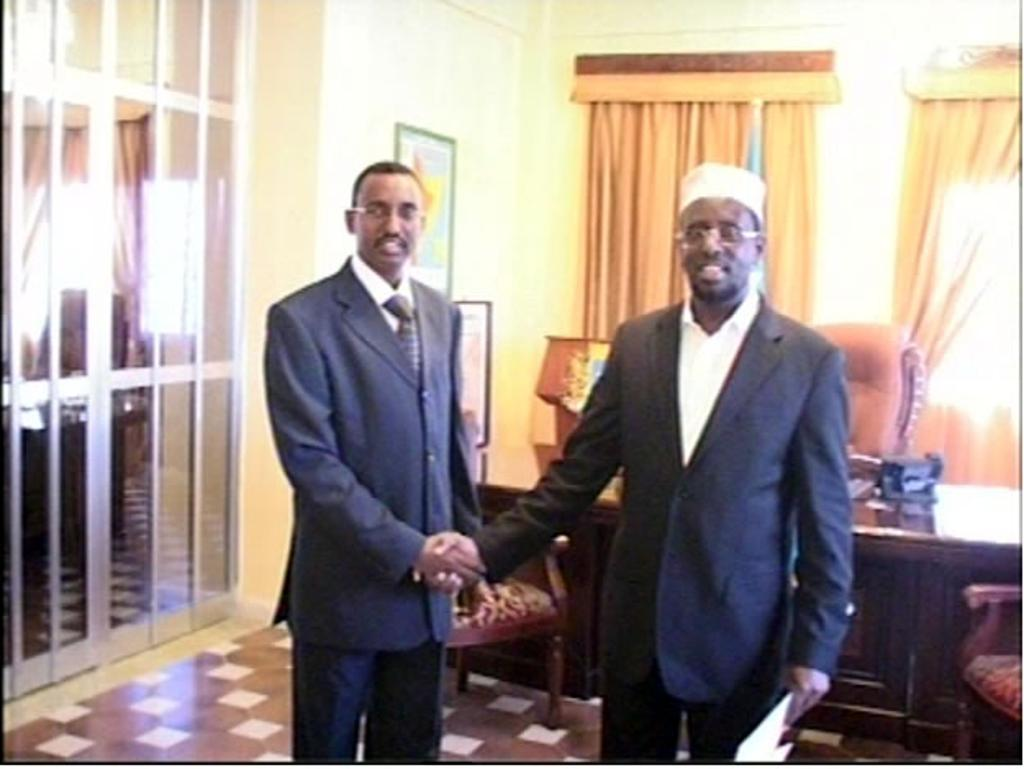face: (684, 198, 756, 296), (356, 178, 422, 266)
